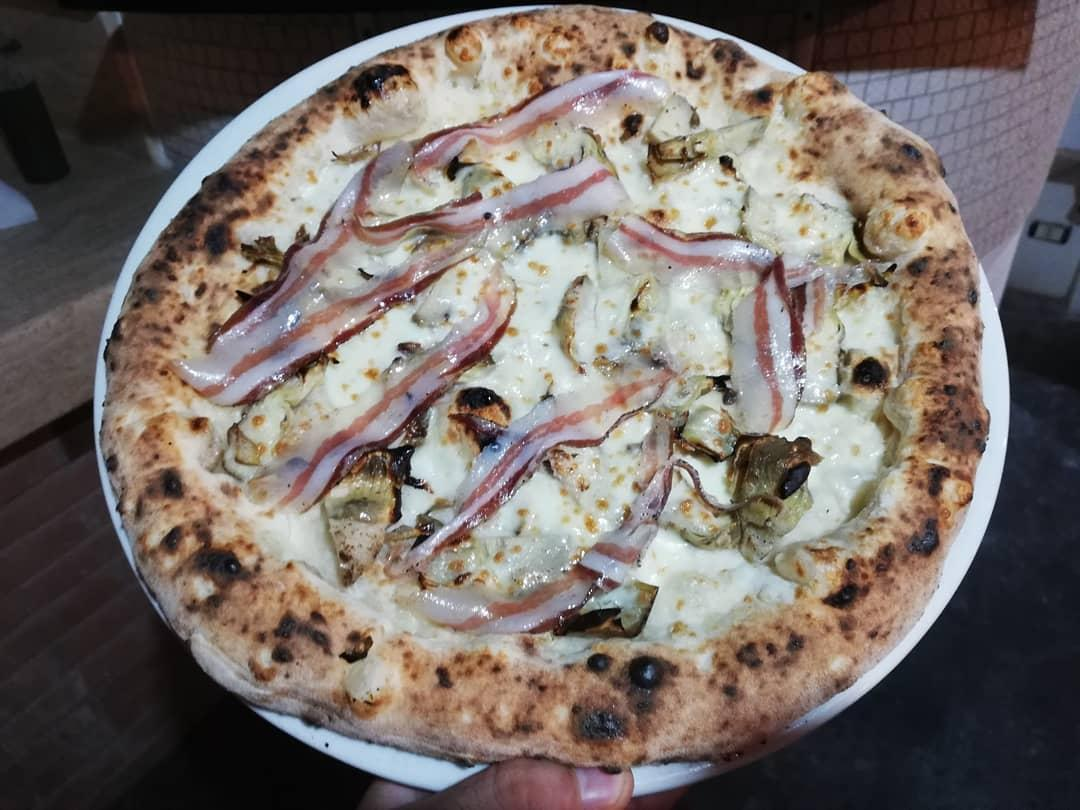Bacon: (397, 398, 536, 570), (405, 110, 504, 290), (505, 71, 611, 232), (318, 157, 404, 346), (536, 363, 673, 473), (385, 291, 522, 400), (287, 400, 397, 515), (218, 281, 317, 406), (731, 272, 803, 434), (448, 570, 604, 636), (611, 69, 679, 213), (606, 473, 676, 606), (616, 213, 773, 272)
Pizza: (103, 9, 989, 763)
